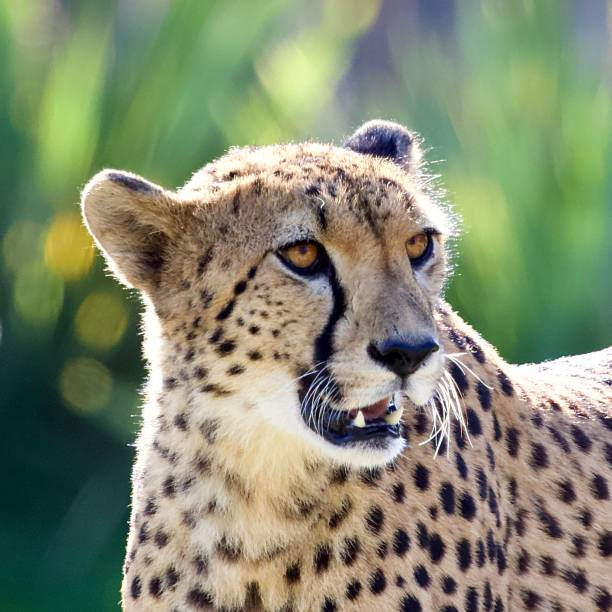cheetah: (46, 85, 522, 505)
